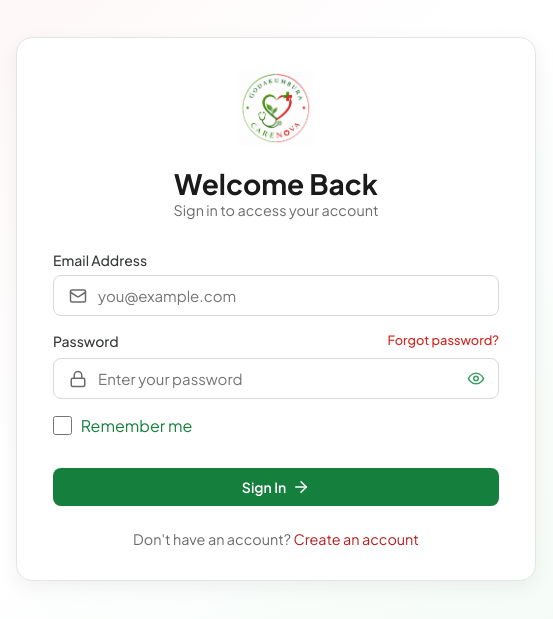
Test: LoginPage › shows required email and password validation messages
Click the button "Sign In" at (276, 487), box x1=53 y1=468 x2=499 y2=506
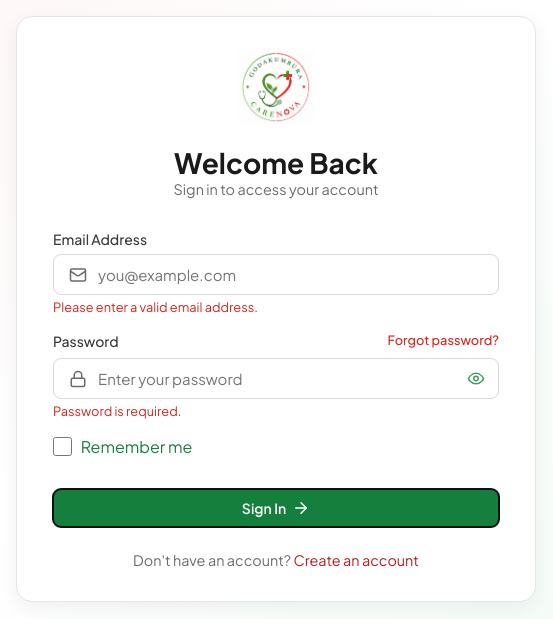
Expected: the text "Please enter a valid email address." is shown, x1=53 y1=299 x2=258 y2=315
Expected: the text "Password is required." is shown, x1=53 y1=403 x2=181 y2=419
